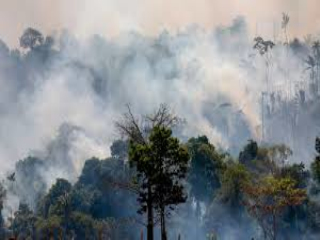smoke: (49, 132, 121, 181), (183, 109, 234, 159)
